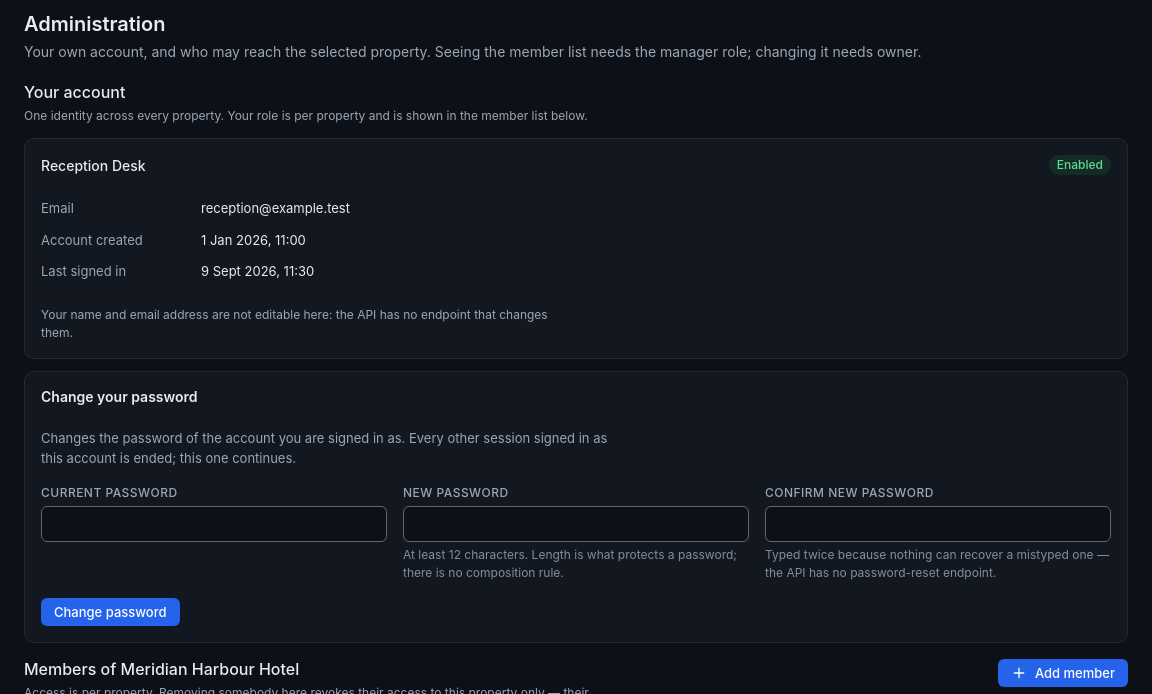
Test: adding a member › explains a 404 as an address with no account, and says it cannot create one
Click the button "Add member" at x=1063, y=673, box x1=998 y1=659 x2=1128 y2=687
(page scrolled)
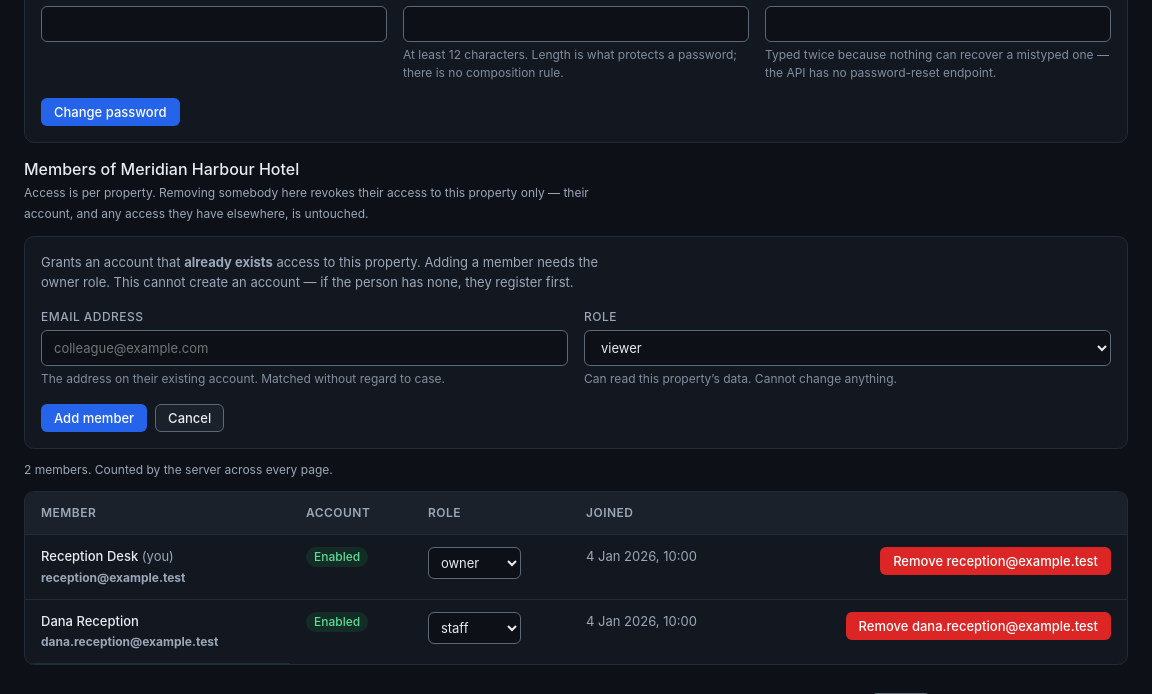
Type "nobody@example.test" into the field labelled "Email address" at x=304, y=348, box x1=41 y1=330 x2=568 y2=366
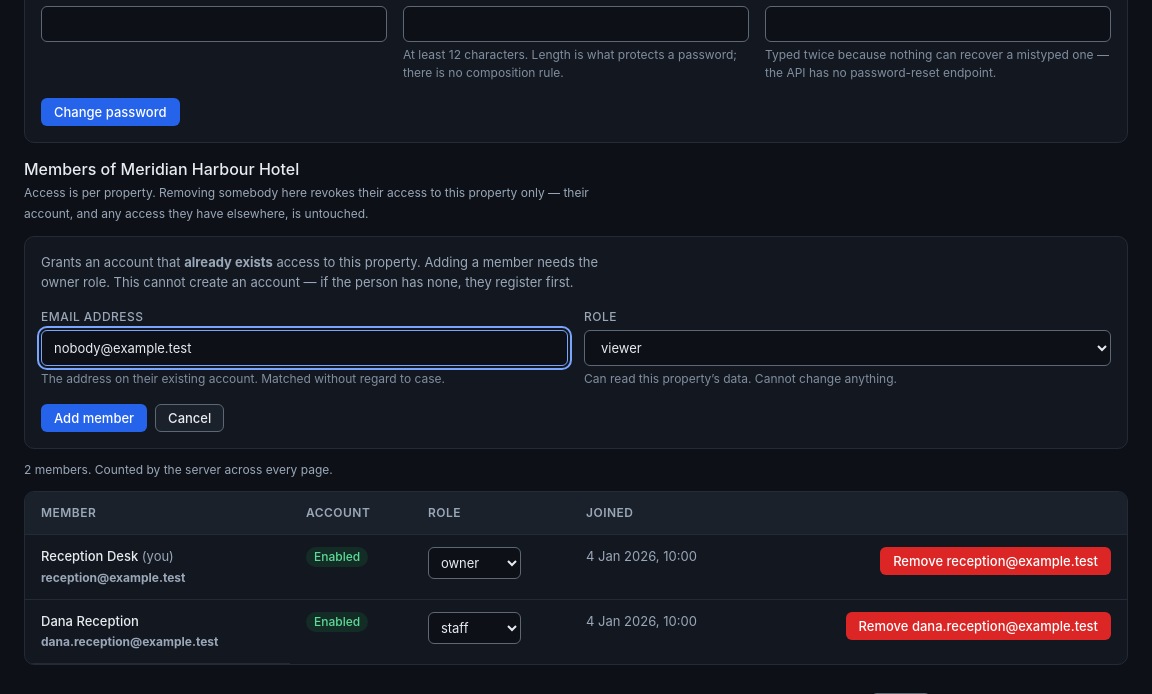
Click the button "Add member" at x=94, y=418, box x1=41 y1=404 x2=147 y2=432
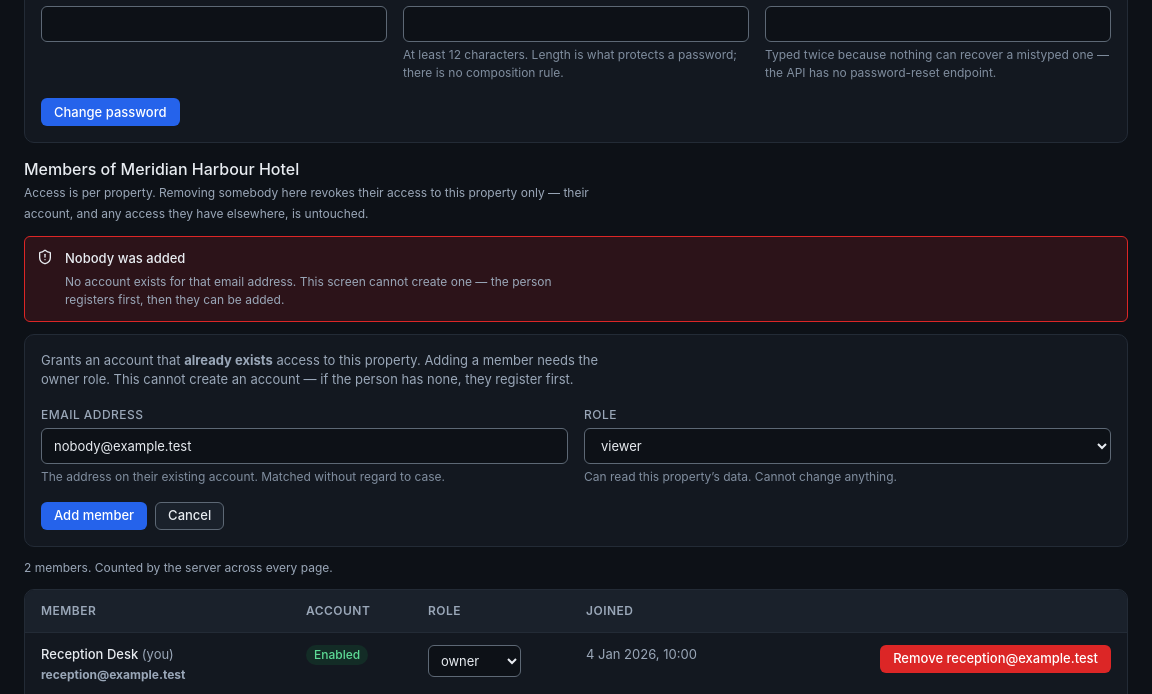
Now the text "register first" is shown, box x1=41 y1=352 x2=598 y2=387
Now the text "Nobody was added" is shown, box x1=65 y1=250 x2=185 y2=266
Now the text "cannot create one" is shown, box x1=65 y1=274 x2=552 y2=307
